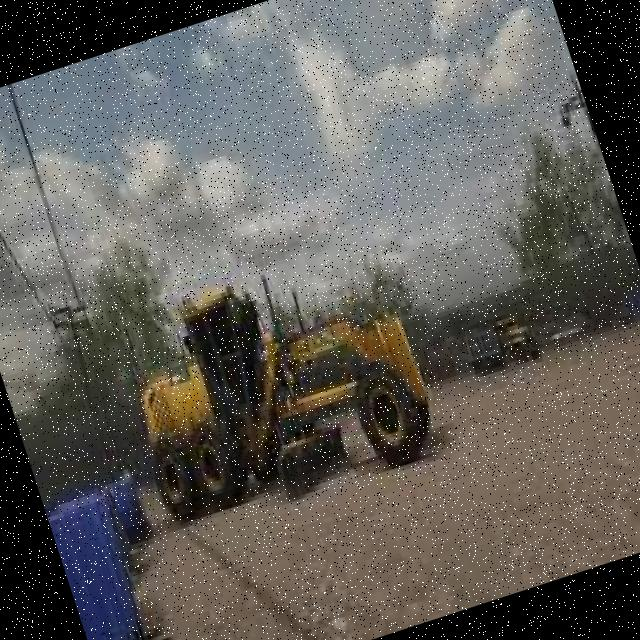Grader: (97, 212, 470, 566)
